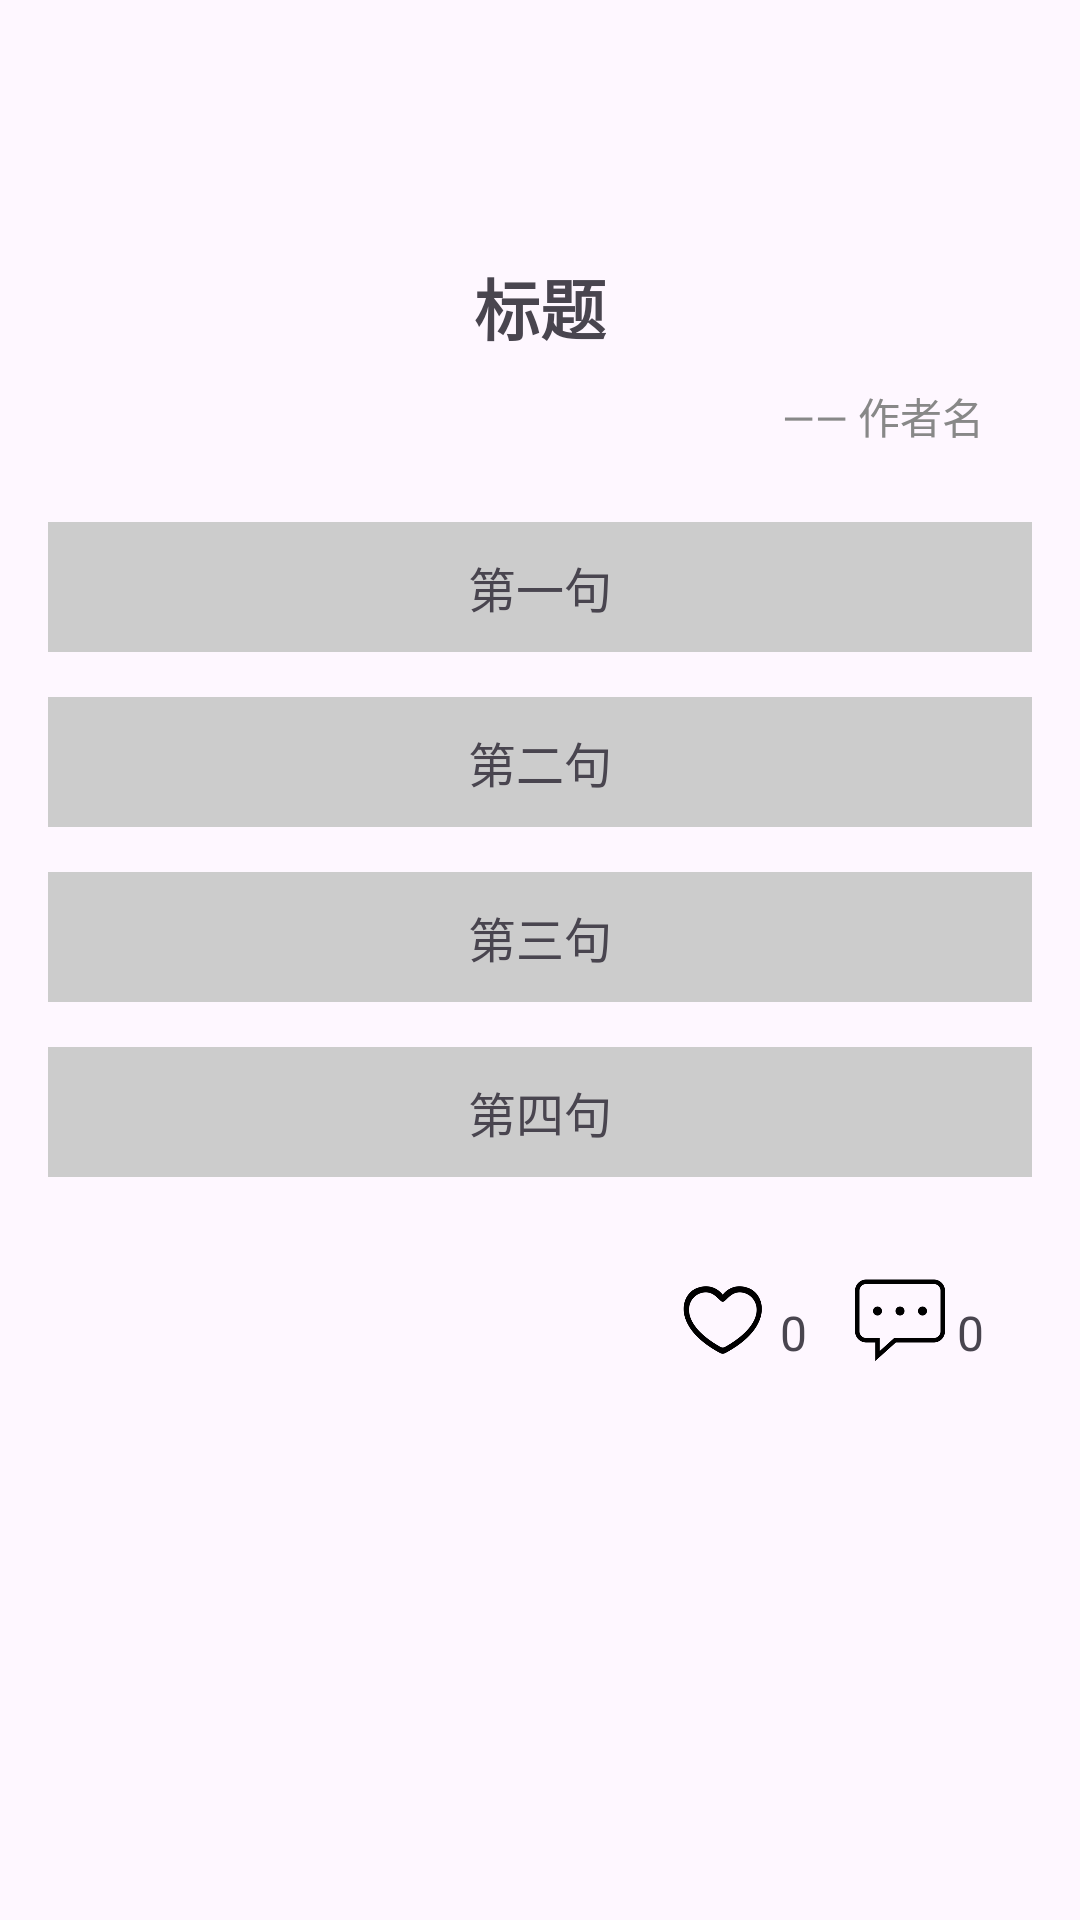

Named icons in this screenshot (1080*1920) and their centers, (x,y):
点赞: (722,1320)
评论: (900,1320)
